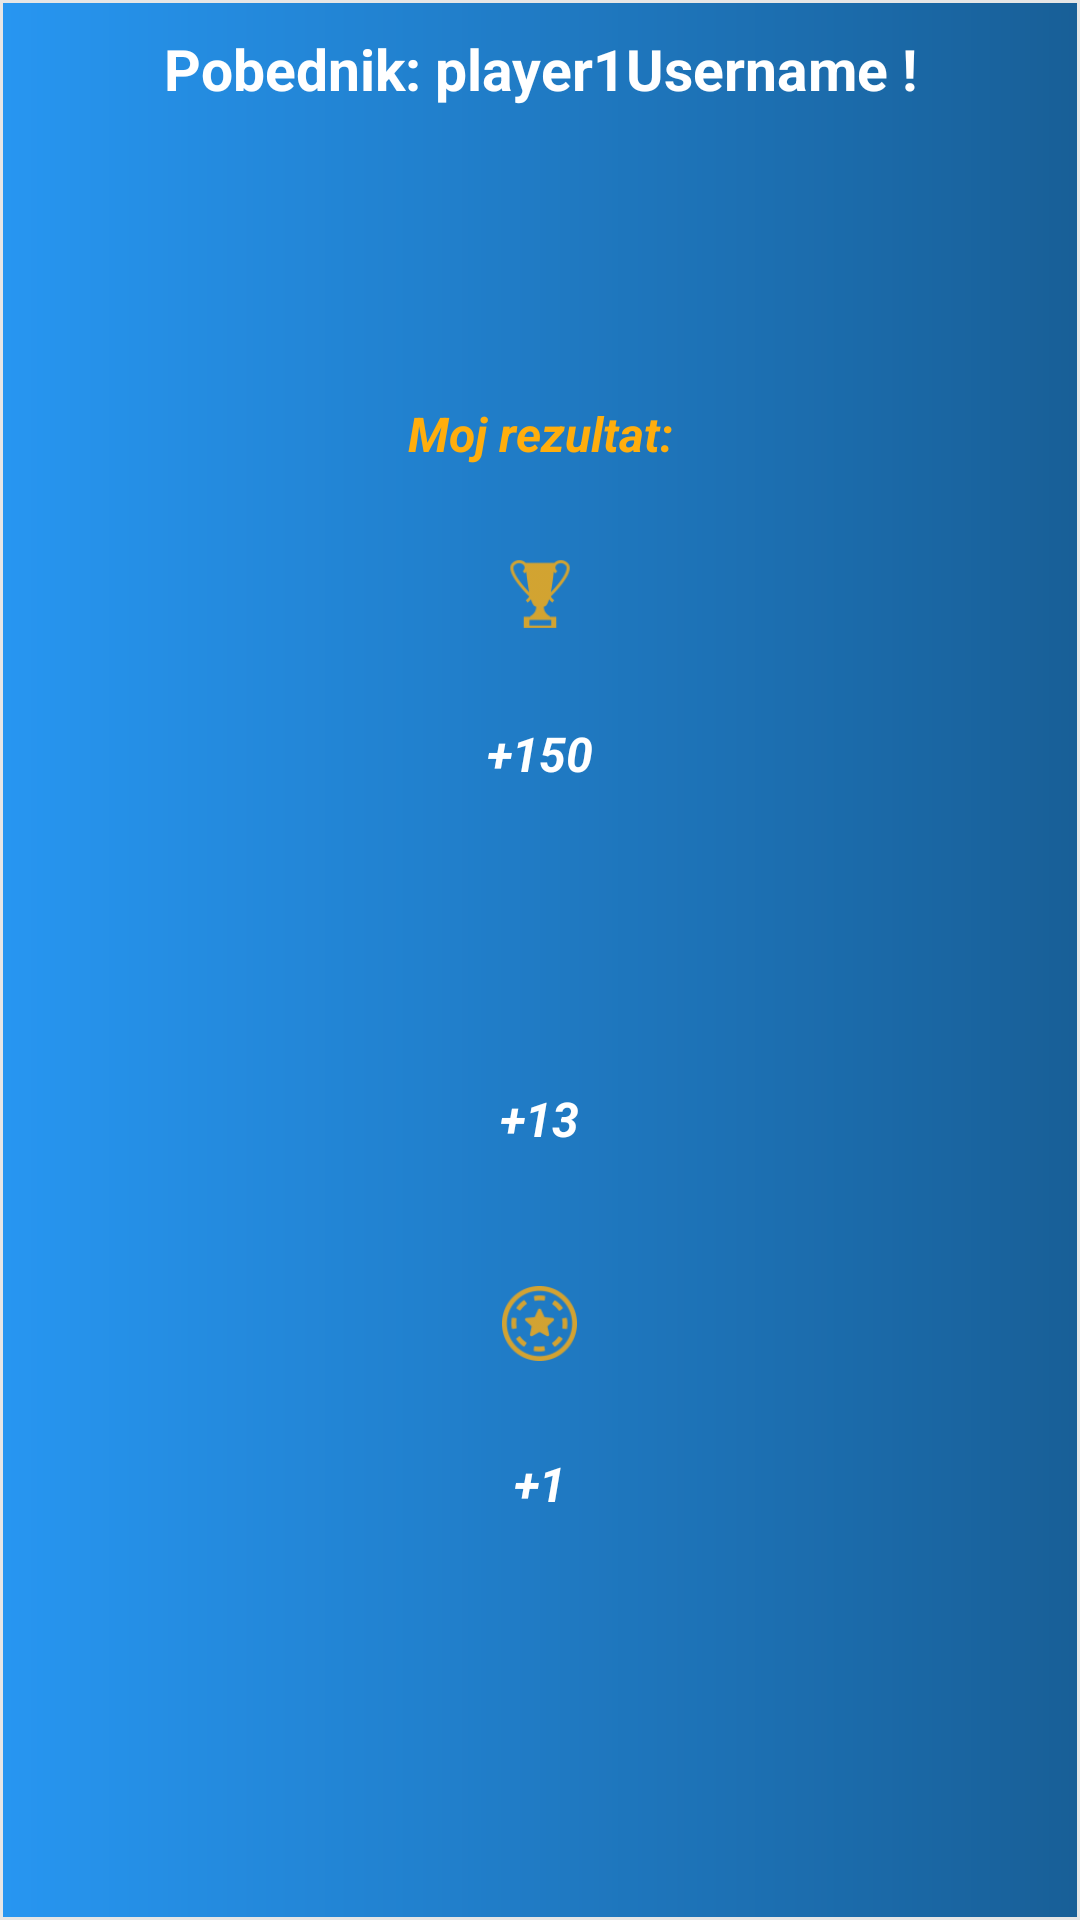

Screen size 1080*1920. Icon name, then its box in pixels as (x1=x1, y1=y1, x2=x2, y2=y2):
token: (x1=502, y1=1286, x2=577, y2=1361)
trophy: (x1=510, y1=560, x2=570, y2=628)
